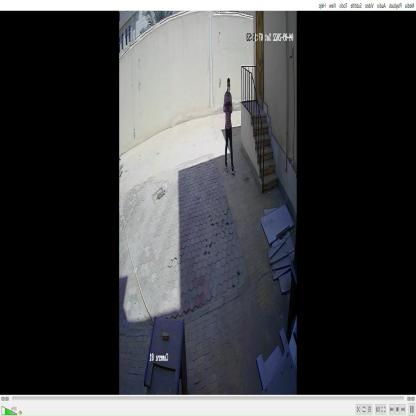handgun: (222, 101, 232, 115)
